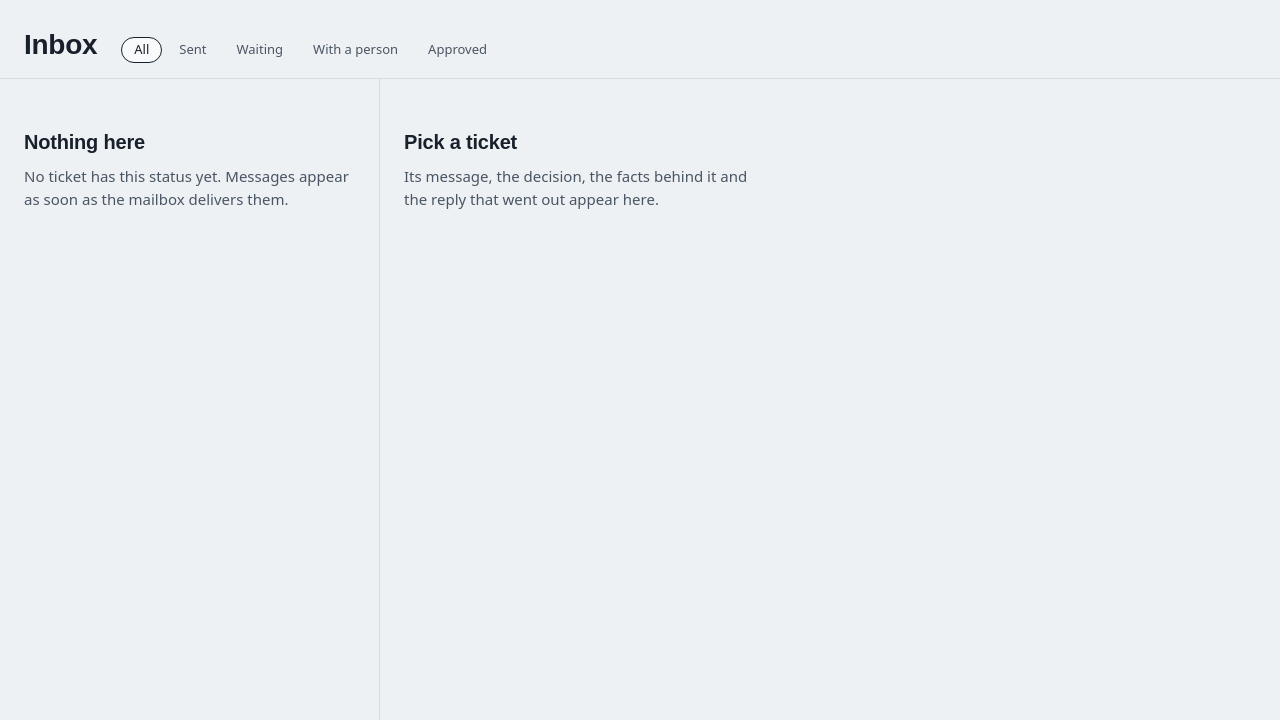
it: inbox › an empty filter says what will appear, a failure says how to recover
Expected: the heading "Nothing here" is shown, [24,131,145,153]
Click the button "Sent".
click(193, 50)  # box [166,37,220,62]
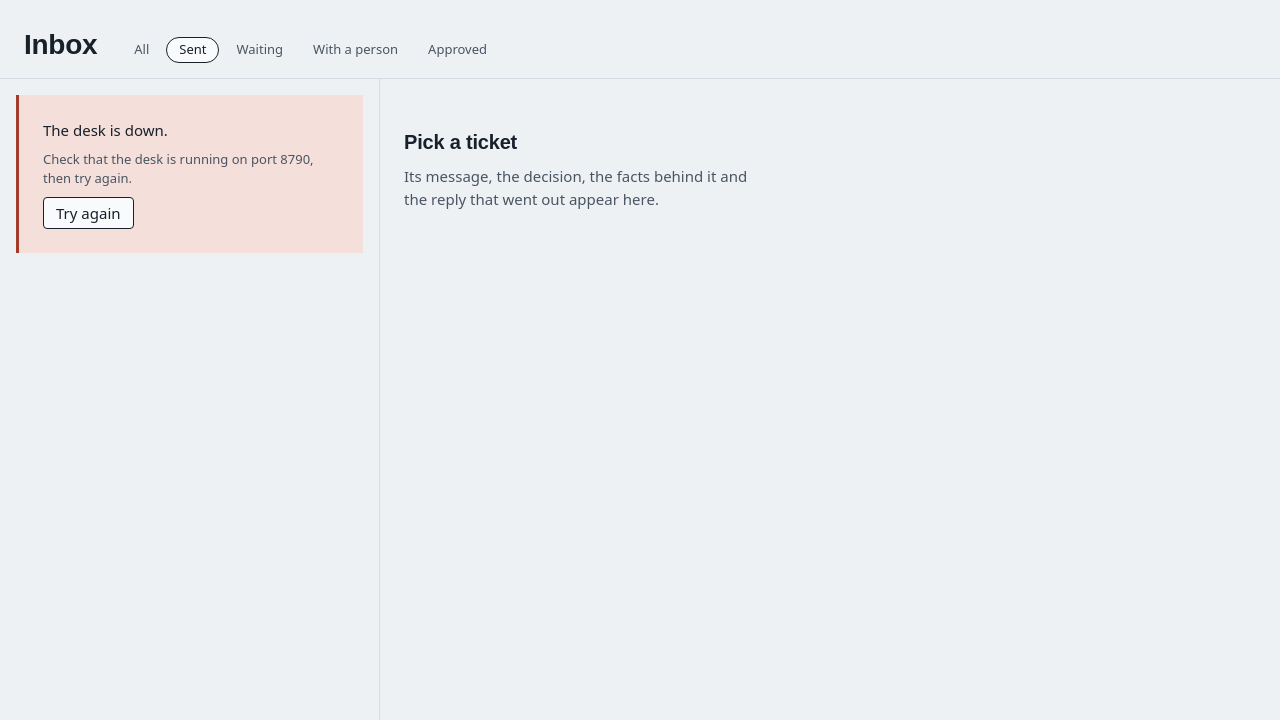
Result: the message shows "The desk is down" at [43,120,168,140]
